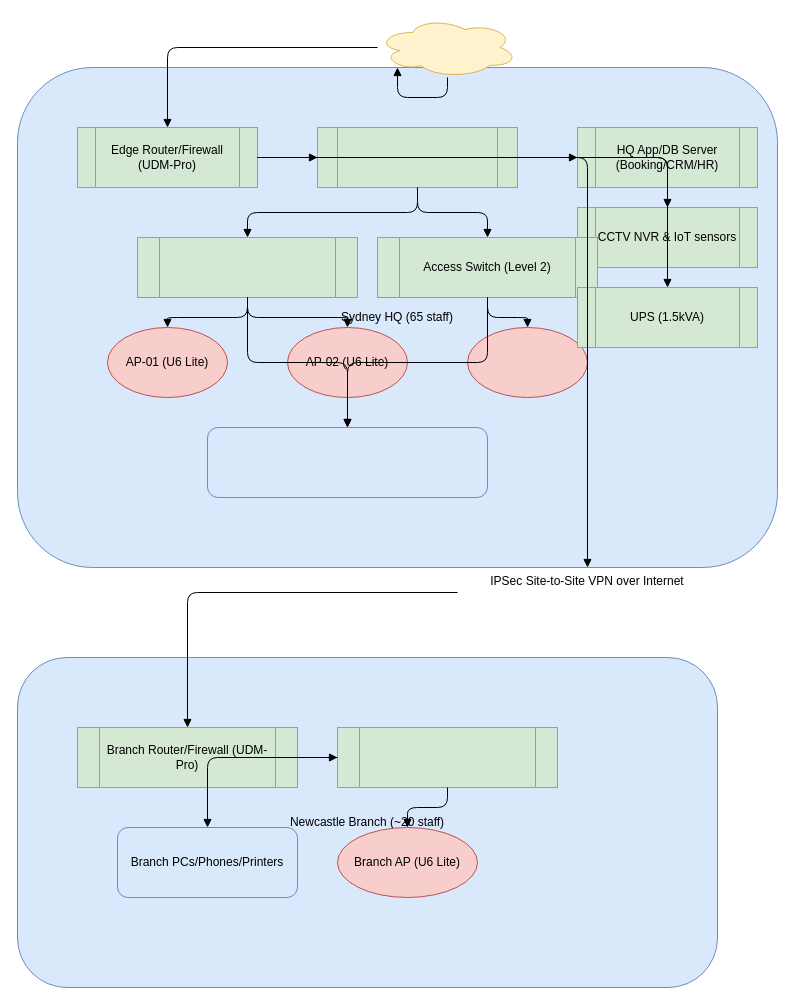
Image size: 795x1005. Some labels were removed from this diagram. Each missing label, with the centre of its shape:
Access Switch (Level 1): (x=247, y=267)
AP-03 (U6 Pro): (x=527, y=362)
Branch Switch (USW-24-POE): (x=447, y=757)
Core Switch (USW-24-POE): (x=417, y=157)
ISP / Internet: (x=447, y=47)
Office PCs/Phones/Printers: (x=347, y=462)
